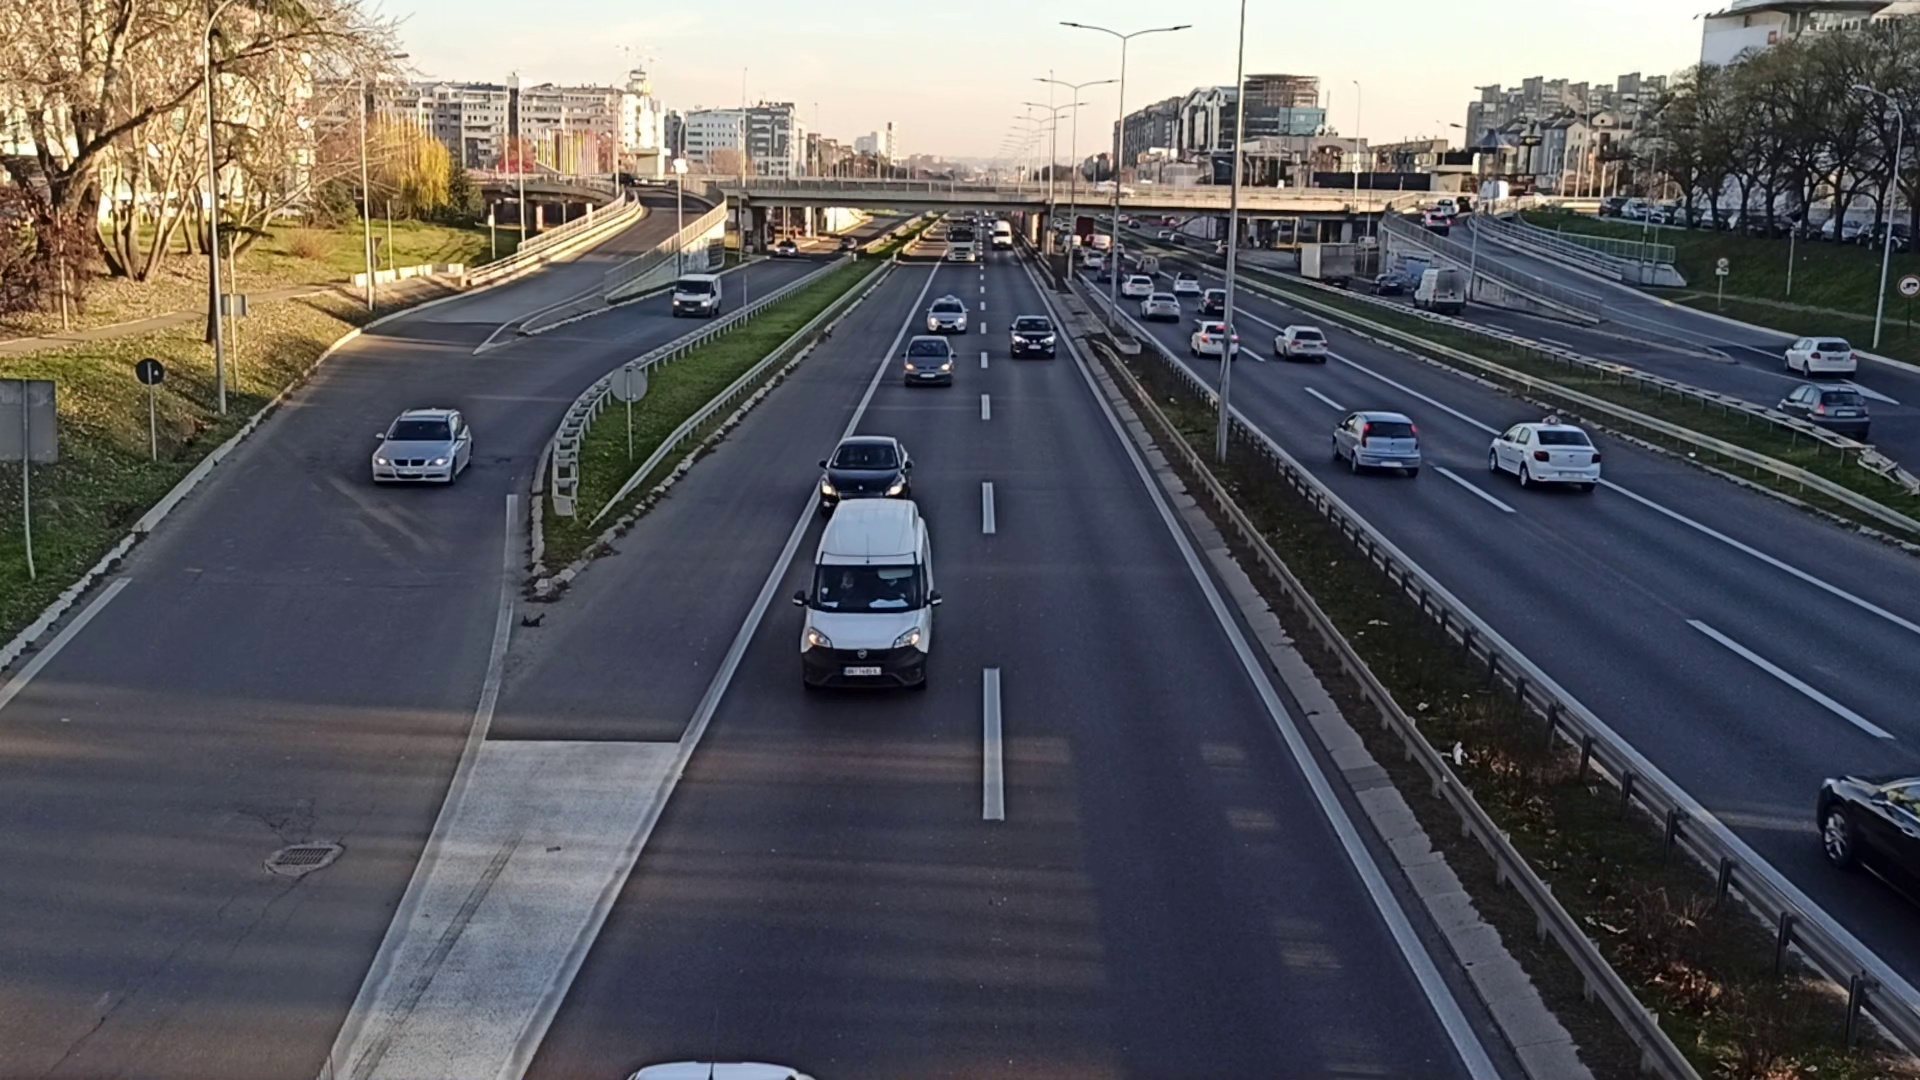car: (1485, 419, 1604, 495), (371, 406, 475, 489), (819, 430, 910, 517), (1331, 409, 1423, 480), (1775, 382, 1870, 439), (1785, 335, 1857, 375), (902, 335, 955, 386), (1273, 322, 1328, 363), (673, 272, 721, 314), (1010, 314, 1055, 356), (1189, 319, 1237, 355), (926, 294, 965, 332), (1143, 293, 1179, 320)
truck: (943, 218, 978, 264)
van: (800, 498, 934, 695), (1414, 266, 1469, 314)
